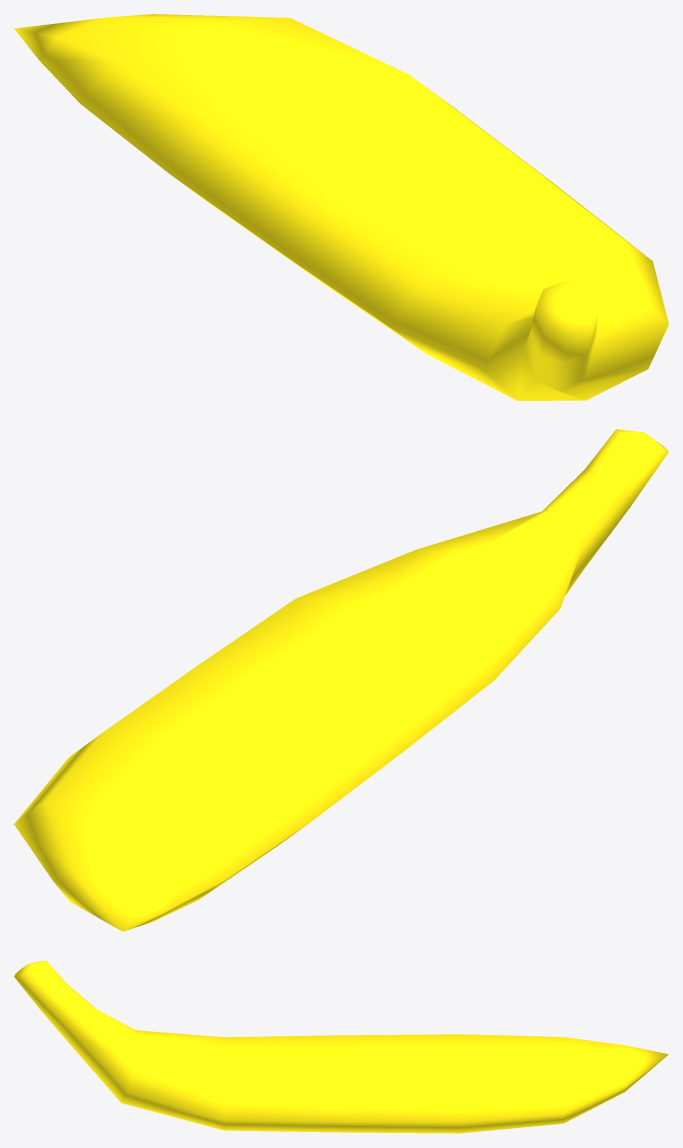
Rendered from banana.glb.
The picture shows the model from 3 angles, top to bottom: view 1: azimuth 30°, elevation 25°; view 2: azimuth 150°, elevation 25°; view 3: azimuth 270°, elevation 25°; orthographic projection. The views are drawn at different scales.
Parts seen in each view (by area): view 1: Banana; view 2: Banana; view 3: Banana.
Boxes of the visible parts, left/top/right/bottom form: Banana: left=14, top=14, right=668, bottom=400; Banana: left=14, top=429, right=668, bottom=931; Banana: left=14, top=960, right=668, bottom=1133.
Bounding box in the file's own units: 1.5 × 1.05 × 5.18.
